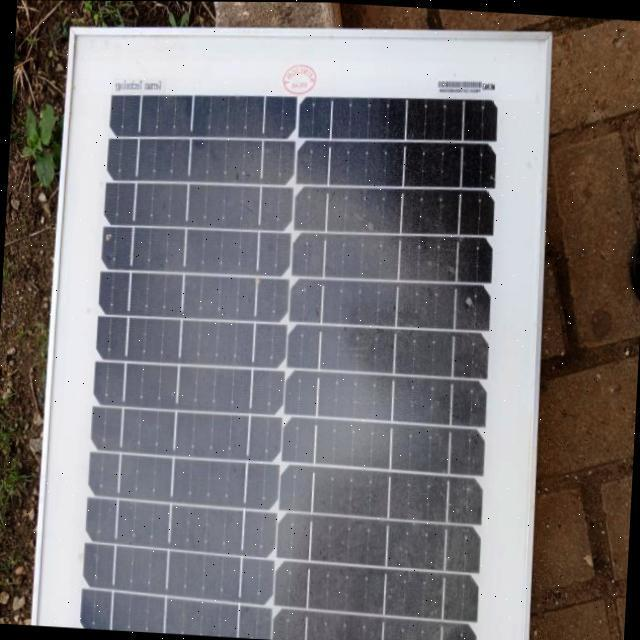Anomaly Solar Panel: (48, 42, 518, 640)
Surface Contaminant: (64, 83, 506, 640)
